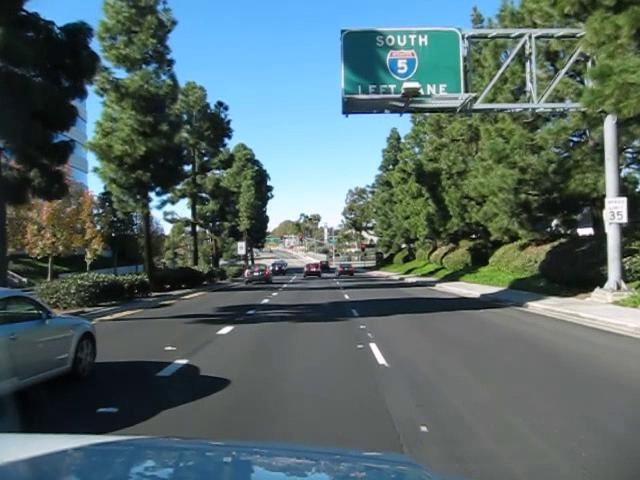speedLimit35: (604, 196, 628, 223)
